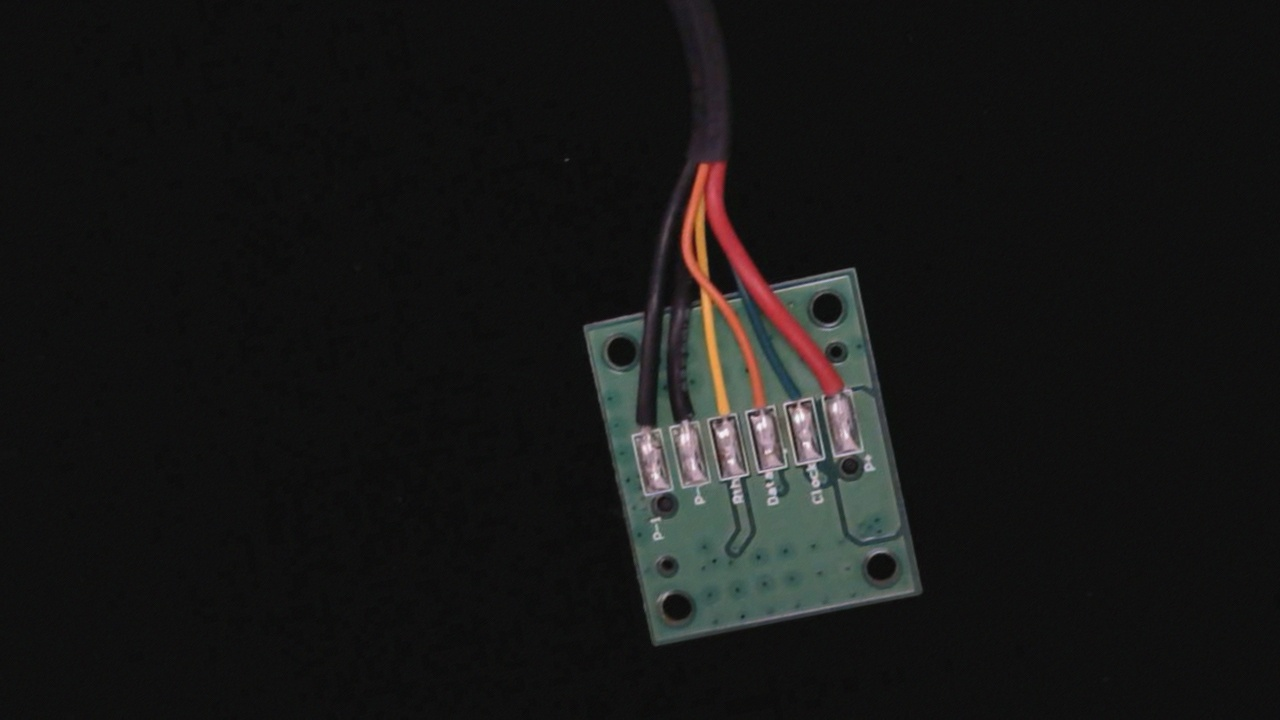Black: (657, 373, 705, 441)
Black1: (618, 378, 663, 450)
Green: (772, 355, 815, 423)
Orange: (733, 352, 779, 429)
Red: (810, 338, 857, 413)
Yellow: (697, 367, 740, 436)
